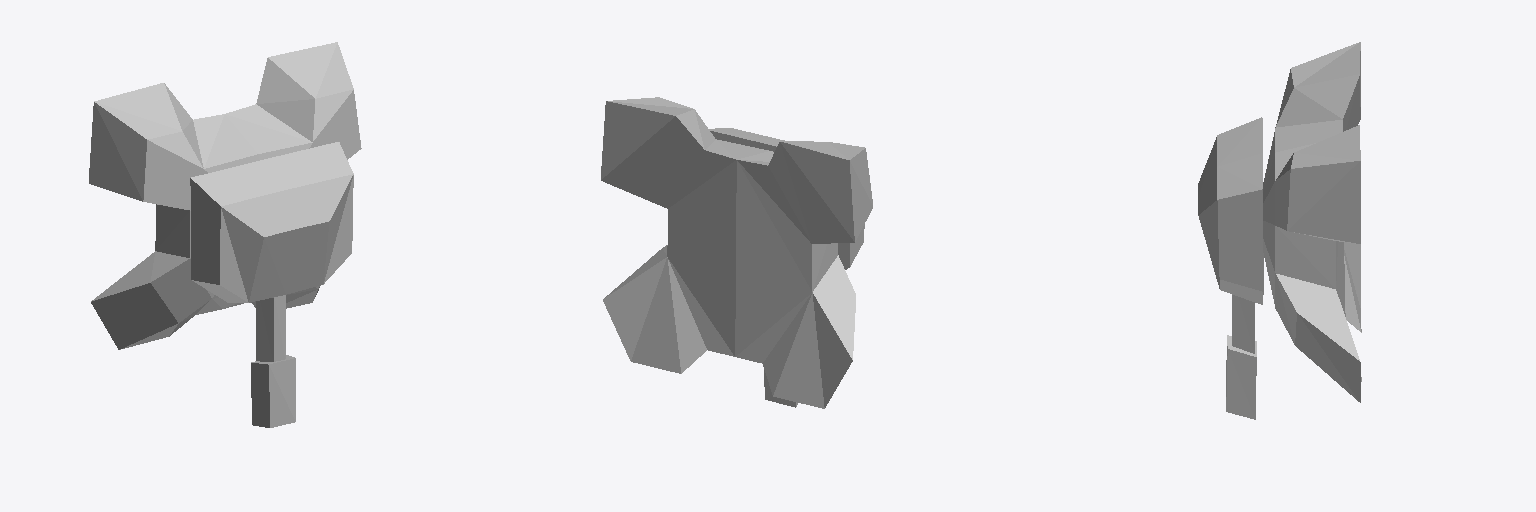
Rendered from turret-17.obj.
3 renders of one model, left to right at view 1: azimuth 30°, elevation 25°; view 2: azimuth 150°, elevation 25°; view 3: azimuth 270°, elevation 25°, orthographic.
Parts seen in each view (by area): view 1: turret_17; view 2: turret_17; view 3: turret_17.
Part boxes in pixels (bbox=[...]): turret_17: bbox=[89, 42, 361, 427]; turret_17: bbox=[601, 97, 872, 408]; turret_17: bbox=[1198, 42, 1361, 419].
Size of the model in its own units: 3.55 by 4.18 by 1.98.